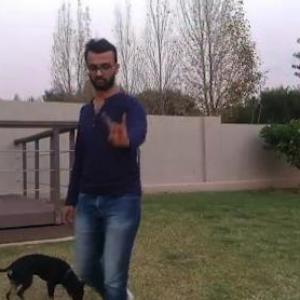takeoff-hand: (99, 104, 138, 153)
